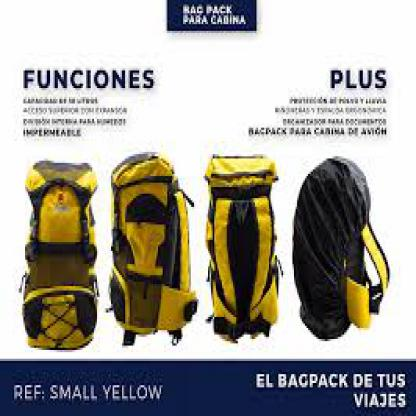morral: (281, 145, 402, 346), (97, 146, 203, 354), (191, 143, 288, 348), (14, 152, 105, 354)
